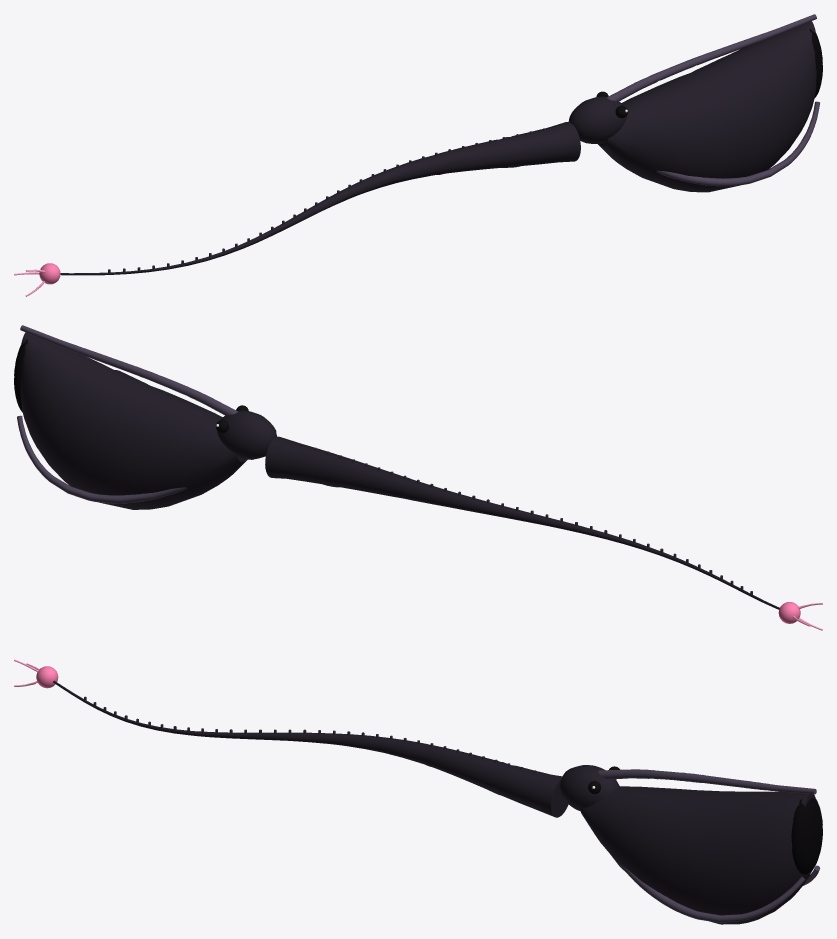
The model's file is gulpereel.glb.
The picture shows the model from 3 angles, top to bottom: view 1: azimuth 30°, elevation 25°; view 2: azimuth 150°, elevation 25°; view 3: azimuth 330°, elevation 25°; orthographic projection. The views are drawn at different scales.
Visible parts, largest first — view 1: Body, Tail, Jaws; view 2: Body, Tail, Jaws; view 3: Body, Tail, Jaws, Mouth, TailFin.
Boxes of the visible parts, bbox=[...] form: Body: bbox=[568, 21, 816, 192]; Tail: bbox=[60, 122, 580, 275]; Jaws: bbox=[606, 14, 819, 186]; Body: bbox=[20, 332, 277, 509]; Tail: bbox=[265, 436, 779, 609]; Jaws: bbox=[17, 325, 237, 503]; Body: bbox=[559, 765, 815, 924]; Tail: bbox=[53, 680, 568, 817]; Jaws: bbox=[598, 769, 820, 922]; Mouth: bbox=[791, 798, 822, 874]; TailFin: bbox=[84, 696, 536, 773].
Size of the model in its own units: 0.1695 by 0.0307 by 0.0186.
